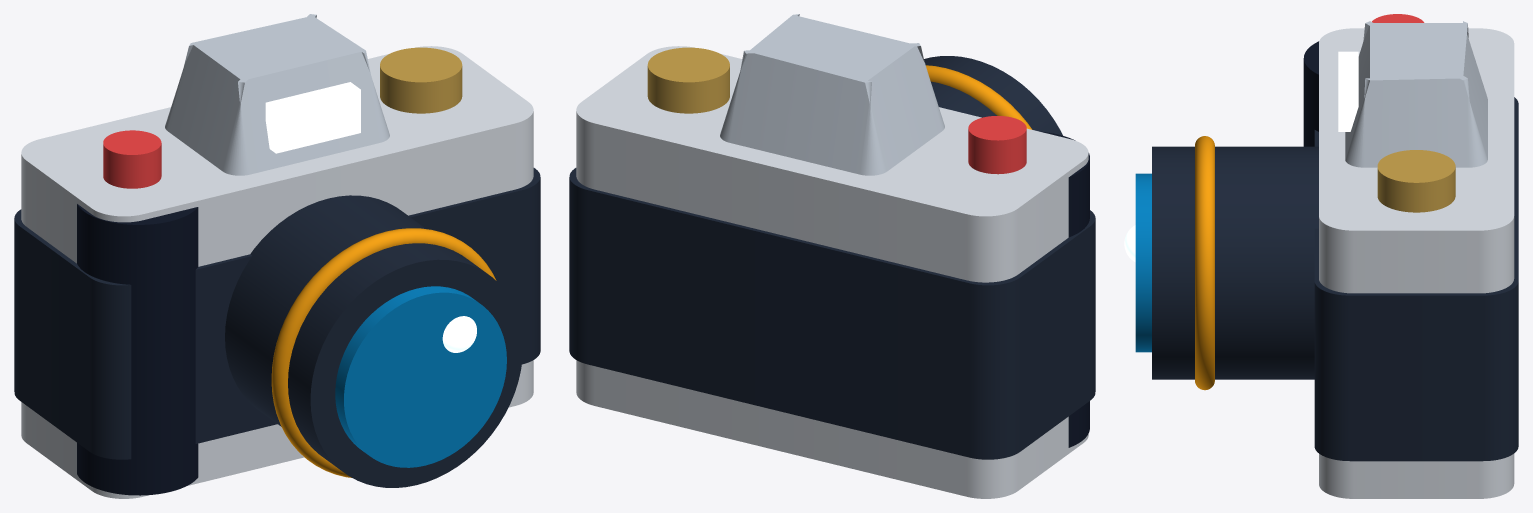
The model's file is camera.glb.
The picture shows the model from 3 angles, left to right: view 1: azimuth 30°, elevation 25°; view 2: azimuth 150°, elevation 25°; view 3: azimuth 270°, elevation 25°; orthographic projection. The views are drawn at different scales.
Visible parts, largest first — view 1: cam_body, cam_wrap, lens_outer, cam_grip, lens_glass, viewfinder, lens_ring, flash, dial, shutter, lens_glint; view 2: cam_wrap, cam_body, viewfinder, dial, lens_outer, shutter, cam_grip, lens_ring; view 3: cam_body, cam_wrap, lens_outer, viewfinder, lens_ring, dial, lens_glass, flash, cam_grip.
Boxes of the visible parts, <box> form: cam_body: <box>21,46,533,498</box>; cam_wrap: <box>14,168,540,459</box>; lens_outer: <box>225,195,522,487</box>; cam_grip: <box>77,204,198,495</box>; lens_glass: <box>335,286,506,467</box>; viewfinder: <box>165,14,389,175</box>; lens_ring: <box>271,228,496,477</box>; flash: <box>265,82,360,153</box>; dial: <box>380,47,462,113</box>; shutter: <box>103,130,161,188</box>; lens_glint: <box>442,316,476,352</box>; cam_wrap: <box>569,168,1095,459</box>; cam_body: <box>576,46,1088,498</box>; viewfinder: <box>720,14,944,175</box>; dial: <box>647,47,729,113</box>; lens_outer: <box>924,56,1062,135</box>; shutter: <box>968,116,1026,174</box>; cam_grip: <box>1039,131,1089,447</box>; lens_ring: <box>926,65,1032,129</box>; cam_body: <box>1319,28,1514,498</box>; cam_wrap: <box>1314,97,1518,461</box>; lens_outer: <box>1152,146,1318,379</box>; viewfinder: <box>1345,21,1487,167</box>; lens_ring: <box>1195,136,1214,390</box>; dial: <box>1377,150,1455,212</box>; lens_glass: <box>1135,173,1151,352</box>; flash: <box>1338,51,1358,131</box>; cam_grip: <box>1303,41,1318,146</box>.
Bounding box in the file's own units: 0.388 × 0.304 × 0.3129.
